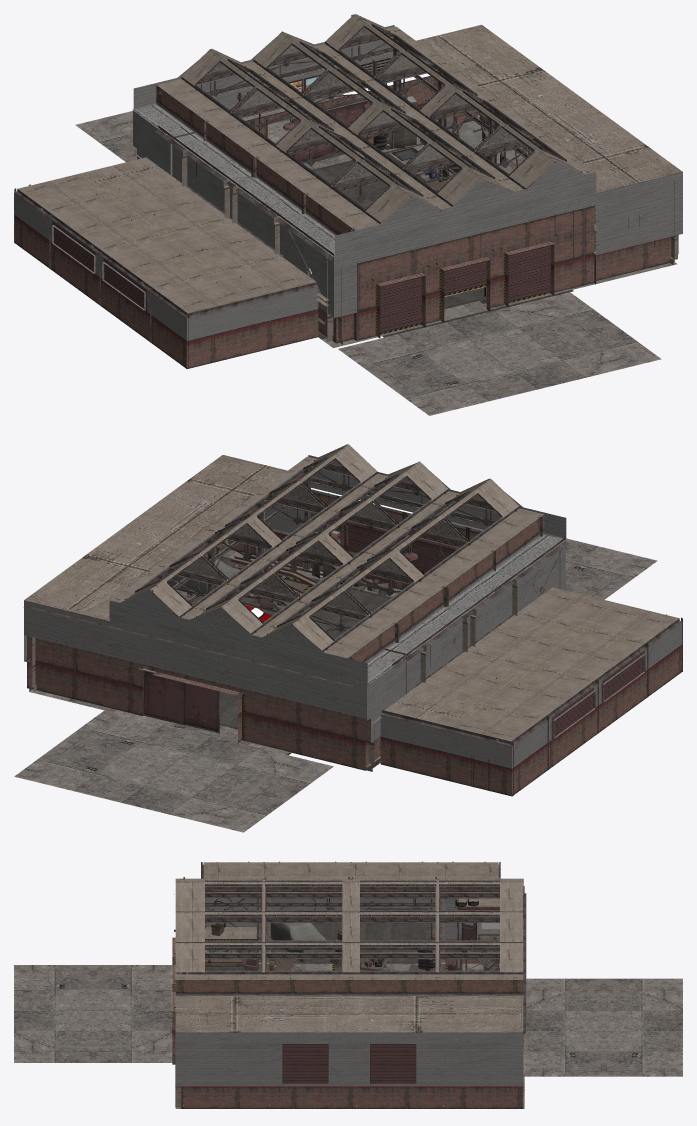
File: garage_2.glb
3 renders of one model, top to bottom at view 1: azimuth 30°, elevation 25°; view 2: azimuth 150°, elevation 25°; view 3: azimuth 270°, elevation 25°, orthographic. The views are drawn at different scales.
Parts seen in each view (by area): view 1: Garage_Building.006, Garage_Building.002, Garage_Building.005, Garage_Building.003, Object004, Object003; view 2: Garage_Building.006, Garage_Building.002, Garage_Building.005, Garage_Building.003, Object003, Object004; view 3: Garage_Building.006, Garage_Building.002, Garage_Building.005, Garage_Building.003, Object, Object001.
Boxes of the visible parts, x1,y1,x2,y2 form: Garage_Building.006: [14, 14, 682, 415]; Garage_Building.002: [14, 14, 682, 368]; Garage_Building.005: [96, 80, 596, 332]; Garage_Building.003: [314, 153, 595, 337]; Object004: [103, 258, 146, 311]; Object003: [52, 221, 95, 274]; Garage_Building.006: [14, 444, 682, 832]; Garage_Building.002: [24, 444, 682, 796]; Garage_Building.005: [122, 493, 566, 790]; Garage_Building.003: [193, 558, 389, 727]; Object003: [551, 687, 593, 739]; Object004: [602, 650, 644, 702]; Garage_Building.006: [14, 861, 682, 1108]; Garage_Building.002: [172, 879, 524, 1108]; Garage_Building.005: [205, 879, 523, 1045]; Garage_Building.003: [205, 923, 445, 970]; Object: [282, 1044, 328, 1083]; Object001: [370, 1044, 416, 1083].
Bounding box in the file's own units: 51.93 × 14.84 × 71.48.
Materials: 15 (13 with a texture image).
